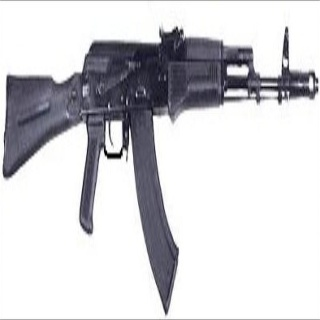rifle: (1, 22, 320, 319)
